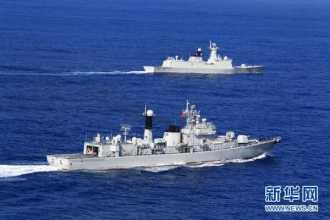warship: (45, 97, 282, 172), (142, 36, 266, 76)
